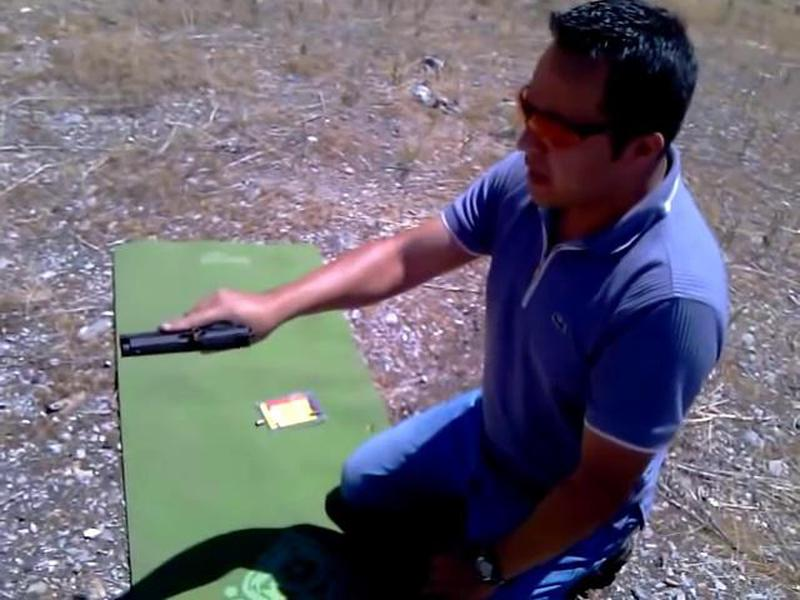Pistola: (111, 310, 261, 369)
